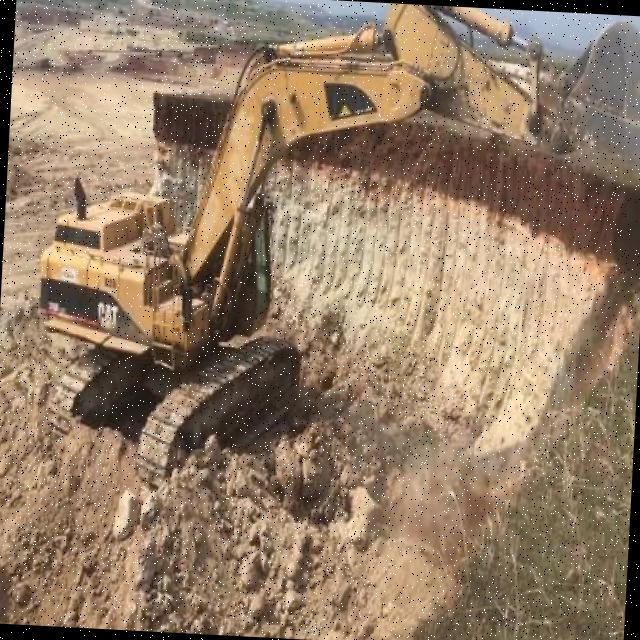Excavator: (19, 0, 640, 516)
